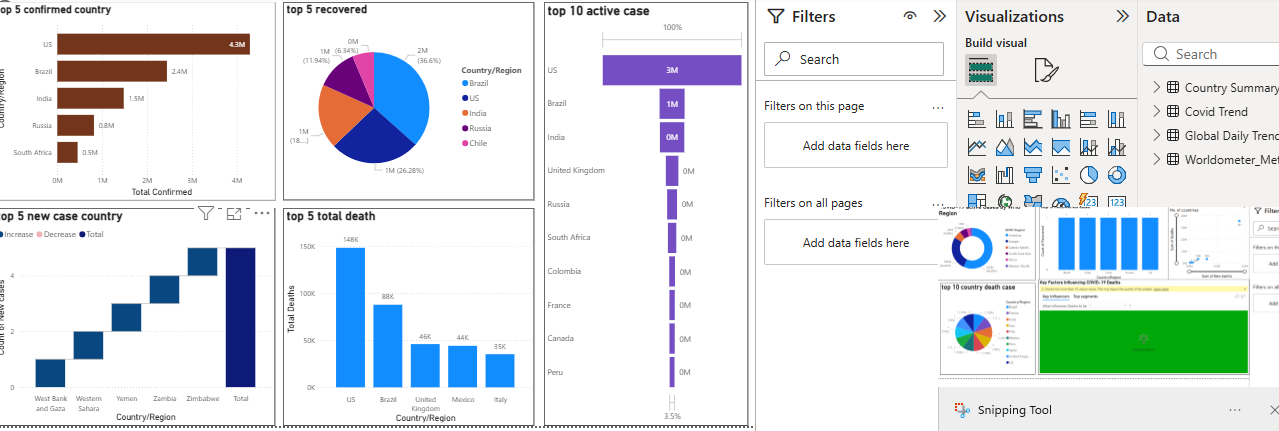

What the dashboard file says about the page in this screenshot:
{"tool":"powerbi","page":{"name":"Page 4","canvas":[1280,720],"ordinal":3},"visuals":[{"type":"actionButton","box":[0,0,100,40],"z":0},{"type":"waterfallChart","title":"top 5 new case country","fields":{"Category":["Country Summary.Country/Region"],"Y":["CountNonNull(Country Summary.New cases)"]},"box":[0,354.4,473.7,366.2],"z":2000},{"type":"funnel","title":"top 10 active case ","fields":{"Category":["Country Summary.Country/Region"],"Y":["Country Summary.Total Active"]},"box":[925.6,8.4,342.7,712.2],"z":2001},{"type":"columnChart","title":"top 5 total death ","fields":{"Y":["Country Summary.Total Deaths"],"Category":["Country Summary.Country/Region"]},"box":[487.1,354.4,421.6,366.2],"z":2002},{"type":"clusteredBarChart","title":"top 5 confirmed country","fields":{"Y":["Country Summary.Total Confirmed"],"Category":["Country Summary.Country/Region"]},"box":[0,8.4,473.7,332.6],"z":2003},{"type":"pieChart","title":"top 5 recovered","fields":{"Category":["Country Summary.Country/Region"],"Y":["Country Summary.Total Recovered"]},"box":[487,8,422,333],"z":2004}]}

Visuals, with their boxes on the page's 1280x720 design canvas (x1, y1, x2, y2). These are canvas units, not pixel positions in the 1279x431 screenshot, which may show the page scaled, cropped or inside an application window:
actionButton: (0,0,100,40)
"top 5 new case country" waterfallChart: (0,354,474,721)
"top 10 active case " funnel: (926,8,1268,721)
"top 5 total death " columnChart: (487,354,909,721)
"top 5 confirmed country" clusteredBarChart: (0,8,474,341)
"top 5 recovered" pieChart: (487,8,909,341)
